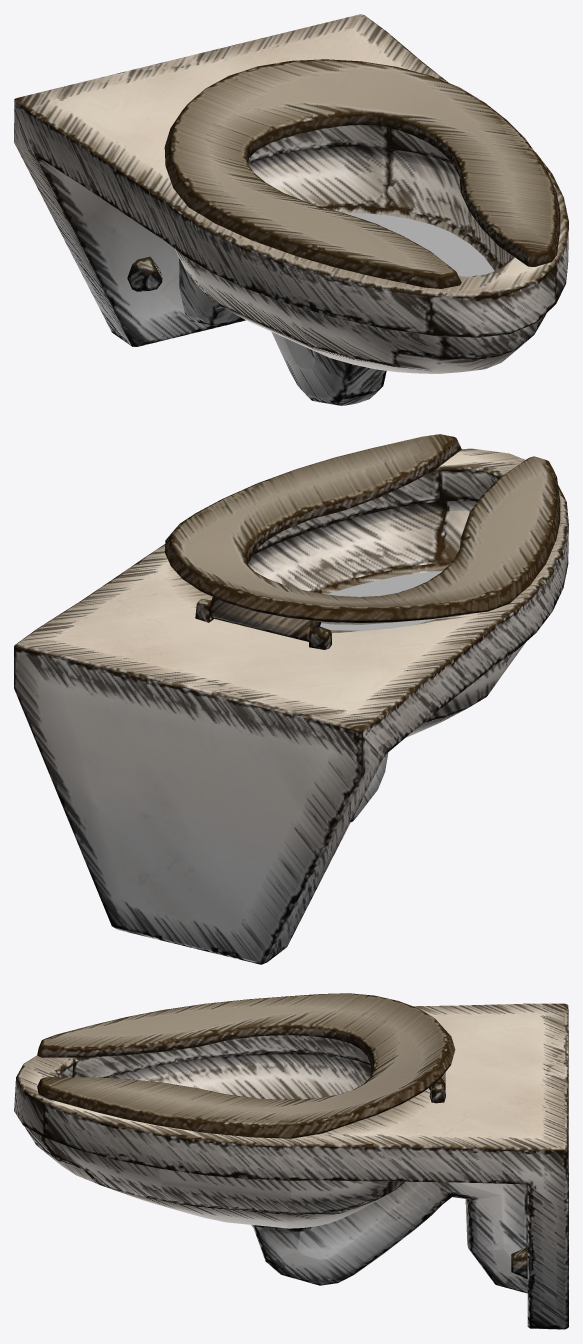
Rendered from toilet.glb.
The picture shows the model from 3 angles, top to bottom: view 1: azimuth 30°, elevation 25°; view 2: azimuth 150°, elevation 25°; view 3: azimuth 270°, elevation 25°; orthographic projection. The views are drawn at different scales.
Visible parts, largest first — view 1: toilet; view 2: toilet; view 3: toilet.
Boxes of the visible parts, x1,y1,x2,y2 form: toilet: (14, 14, 568, 405); toilet: (14, 434, 568, 964); toilet: (14, 993, 568, 1329).
Bounding box in the file's own units: 0.0127 × 0.0104 × 0.0203.
Materials: 5 (5 with a texture image).
